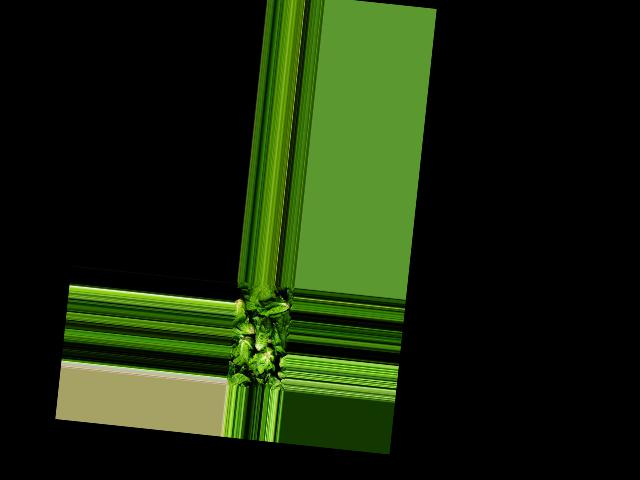lettuce: (232, 293, 249, 329)
